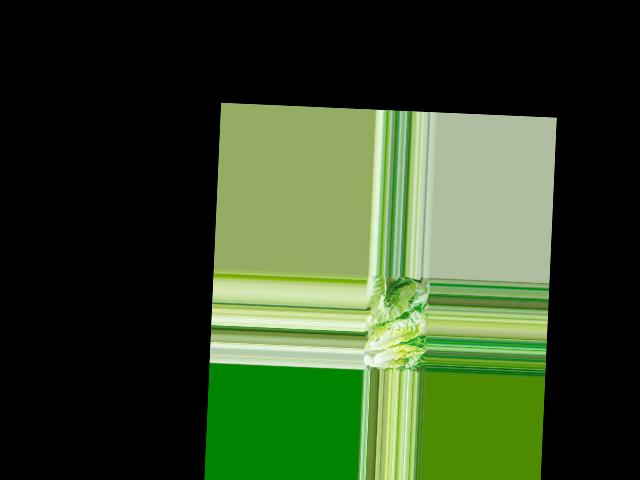lettuce: (362, 307, 424, 370)
